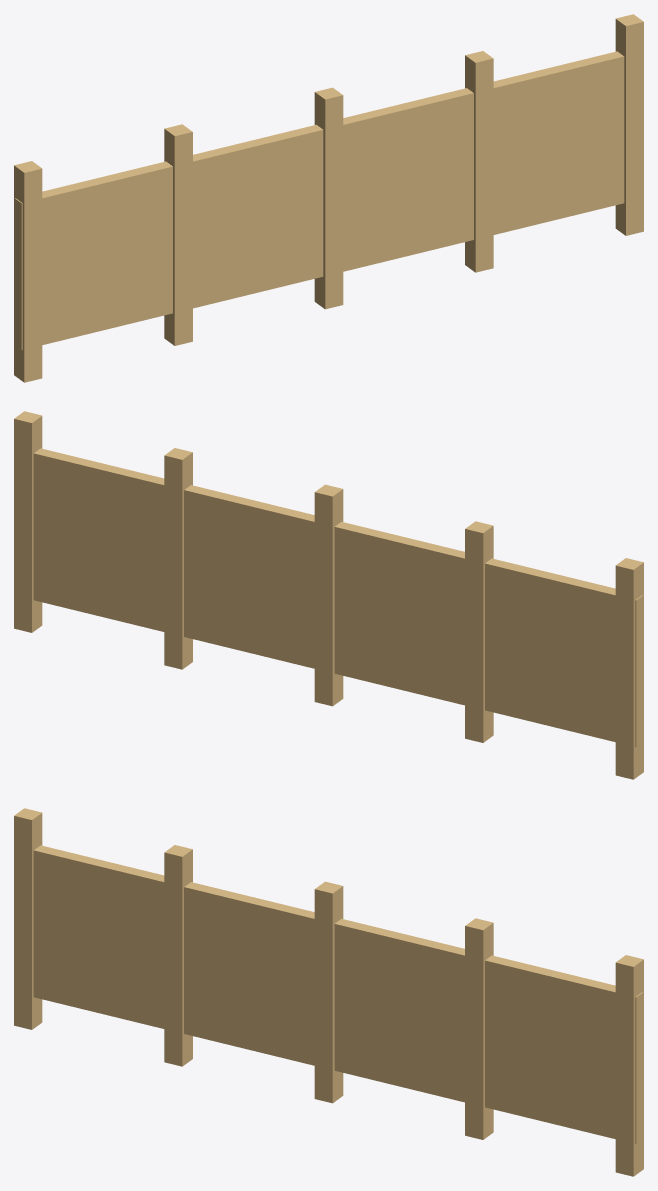
The model's file is Wind-sand-barrier.glb.
3 views of the same model, one above another, from view 1: azimuth 30°, elevation 25°; view 2: azimuth 150°, elevation 25°; view 3: azimuth 330°, elevation 25° (orthographic).
Parts seen in each view (by area): view 1: wind-sand-barrier-static-barrier-timber; view 2: wind-sand-barrier-static-barrier-timber; view 3: wind-sand-barrier-static-barrier-timber.
Part boxes in pixels (box(x1,y1,x2,y2)): wind-sand-barrier-static-barrier-timber: box(14, 14, 643, 382); wind-sand-barrier-static-barrier-timber: box(14, 411, 643, 779); wind-sand-barrier-static-barrier-timber: box(14, 808, 643, 1176).
Size of the model in its own units: 6.2 by 2 by 0.18.
